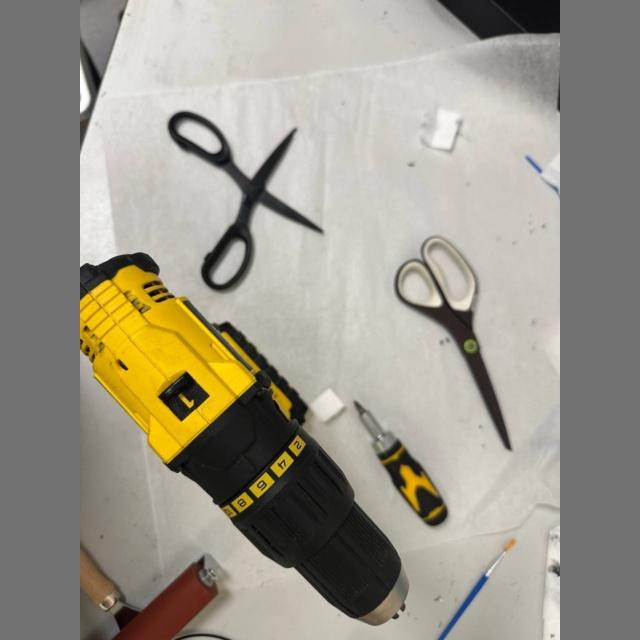drill: (80, 253, 409, 627)
scissor: (169, 111, 323, 290), (395, 235, 511, 450)
screwdriver: (355, 400, 448, 525)
